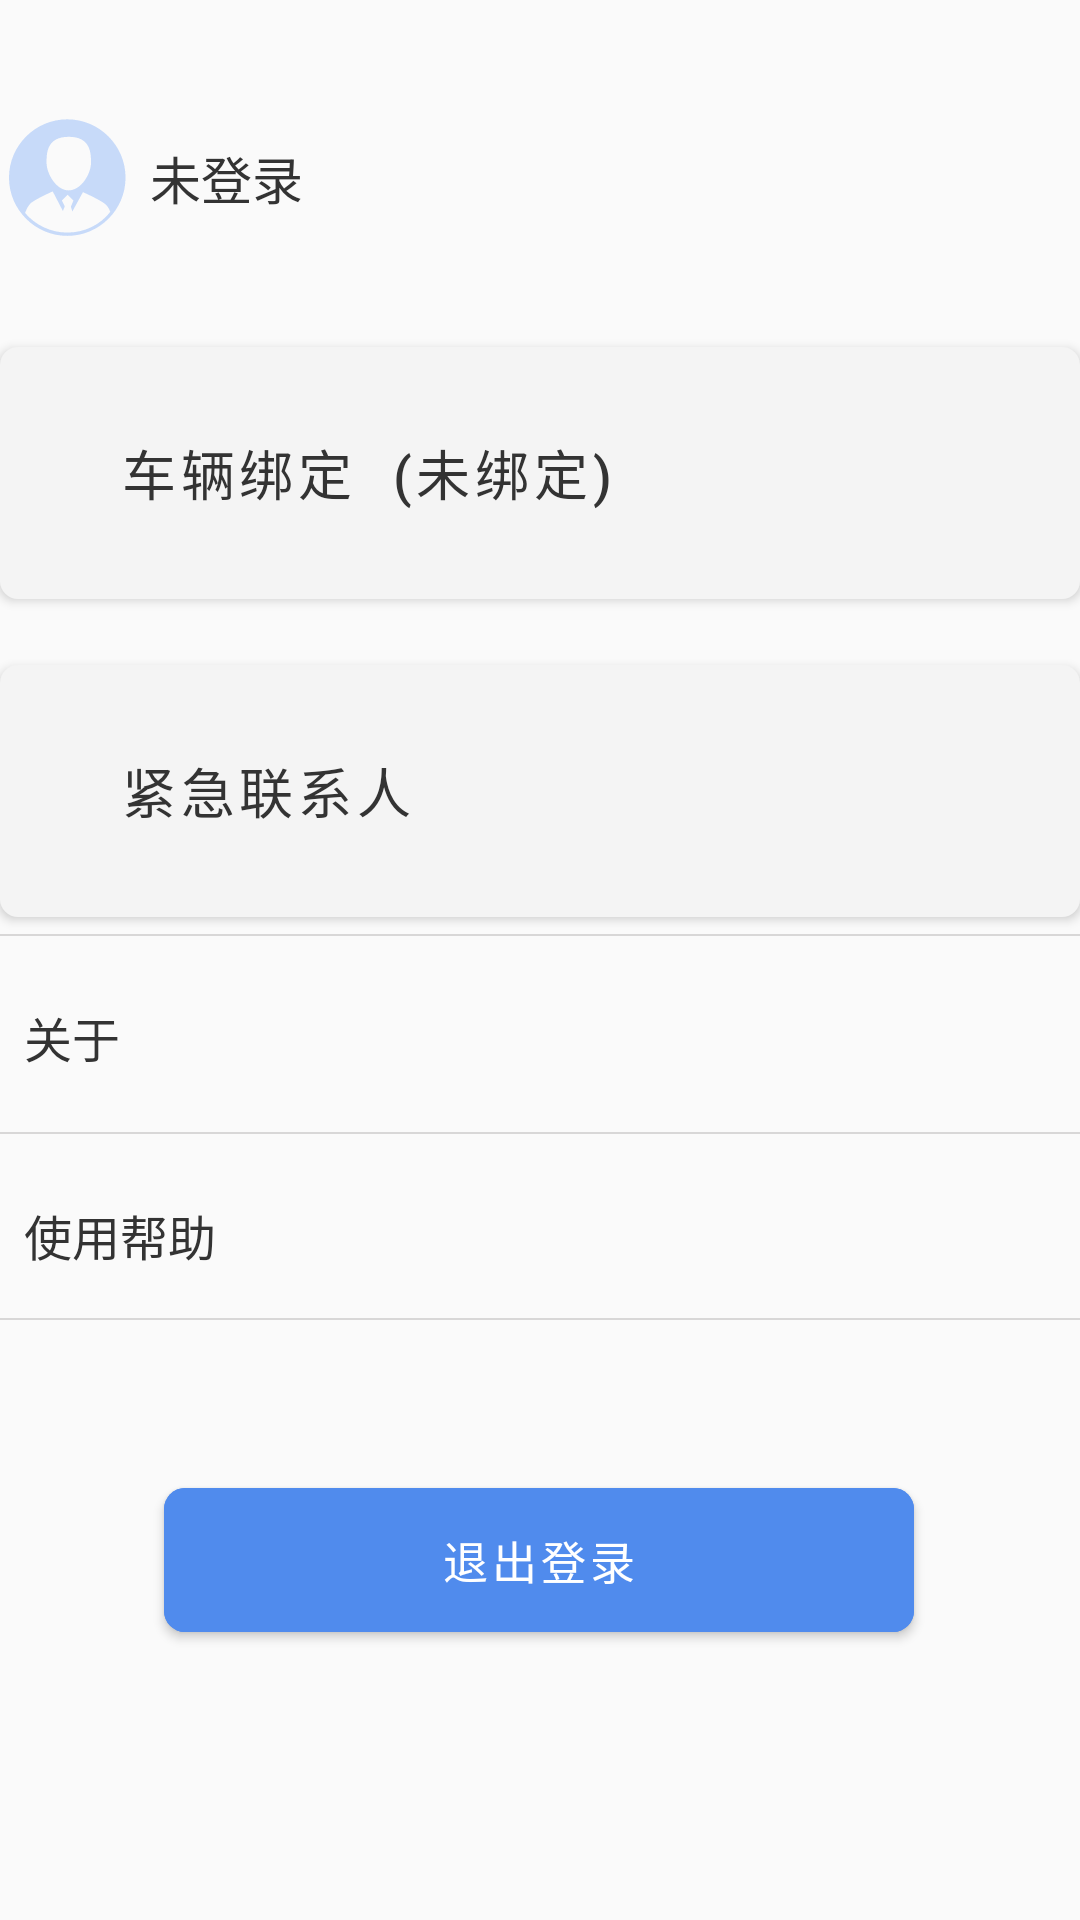

Icon click points for this 1080 × 1920 phone screenshot, format (x=x, y=y):
profile: (x=67, y=177)
